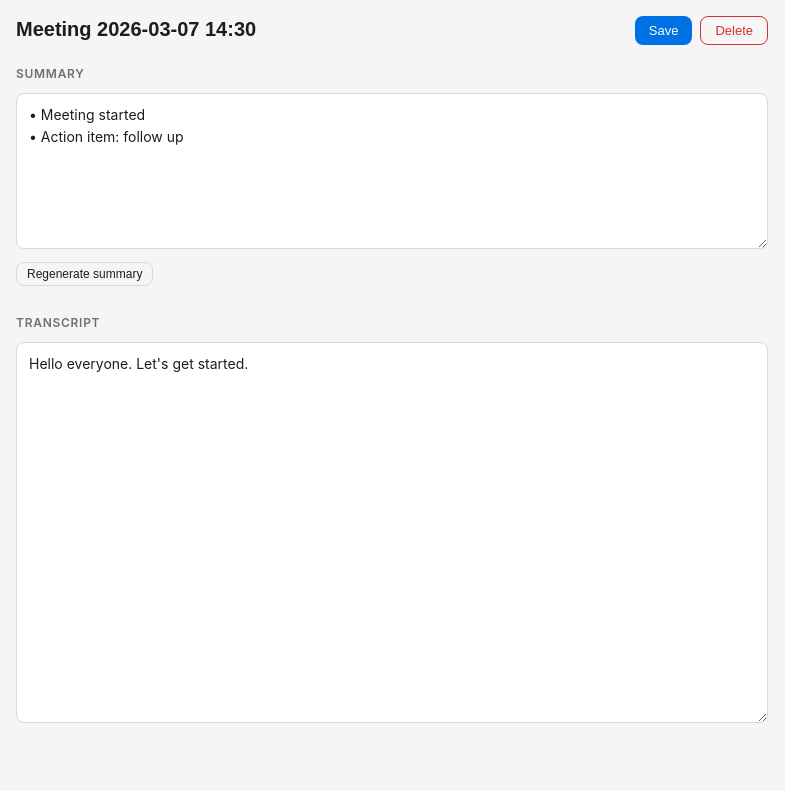
Test: RecordingDetail › shows error when save fails
Click the button "Save". click: [664, 30]
box: [635,16,692,45]
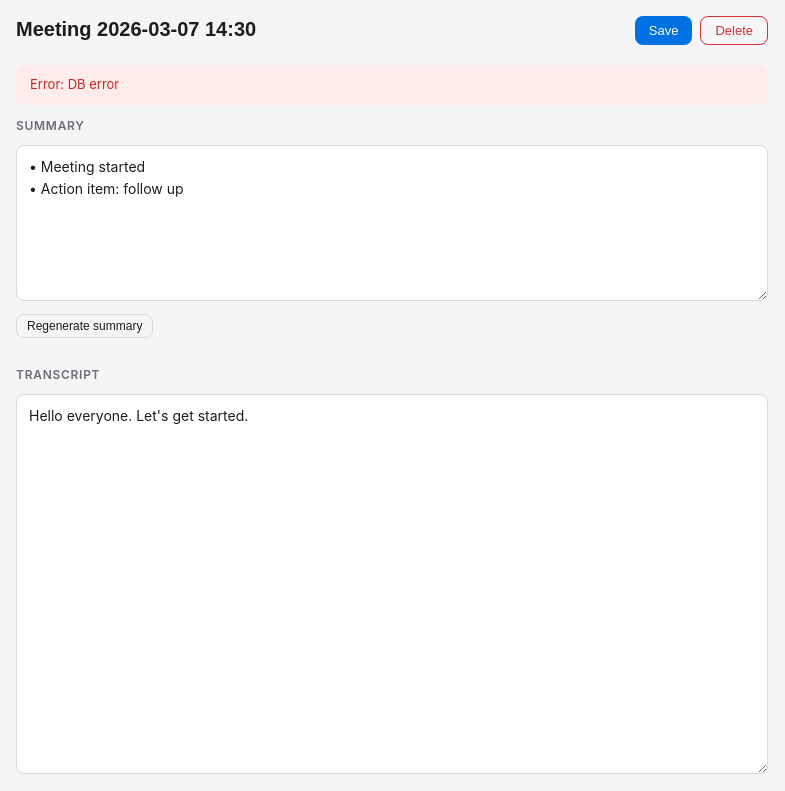
Check: the text "Error: DB error" is shown, box [16,65,768,104]
